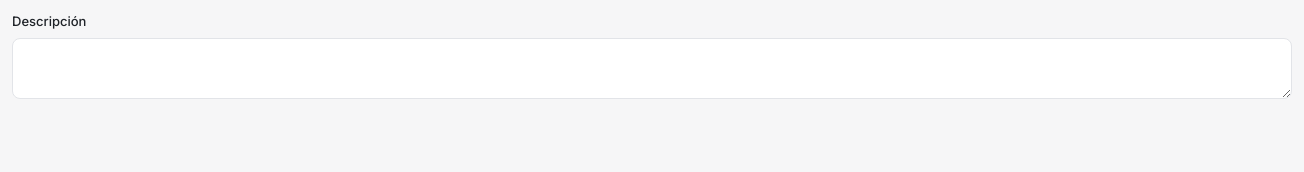
Test: Textarea › es un área de texto etiquetada y respeta maxLength
This screenshot has width=1304, height=172.
Type "abcdefgh" into the text box labelled "Descripción" at (652, 68), box [12, 38, 1292, 98]
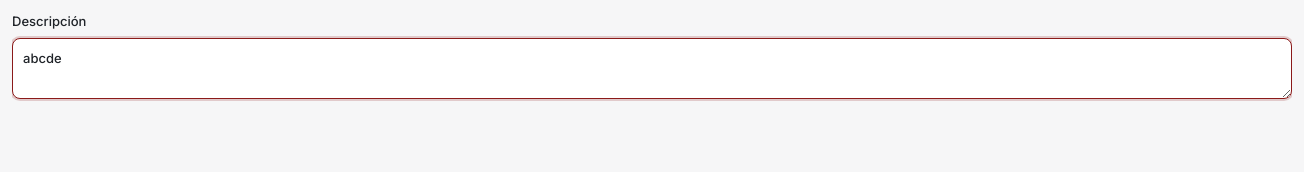
Expected: the text box labelled "Descripción" holds "abcde", [12, 38, 1292, 98]
